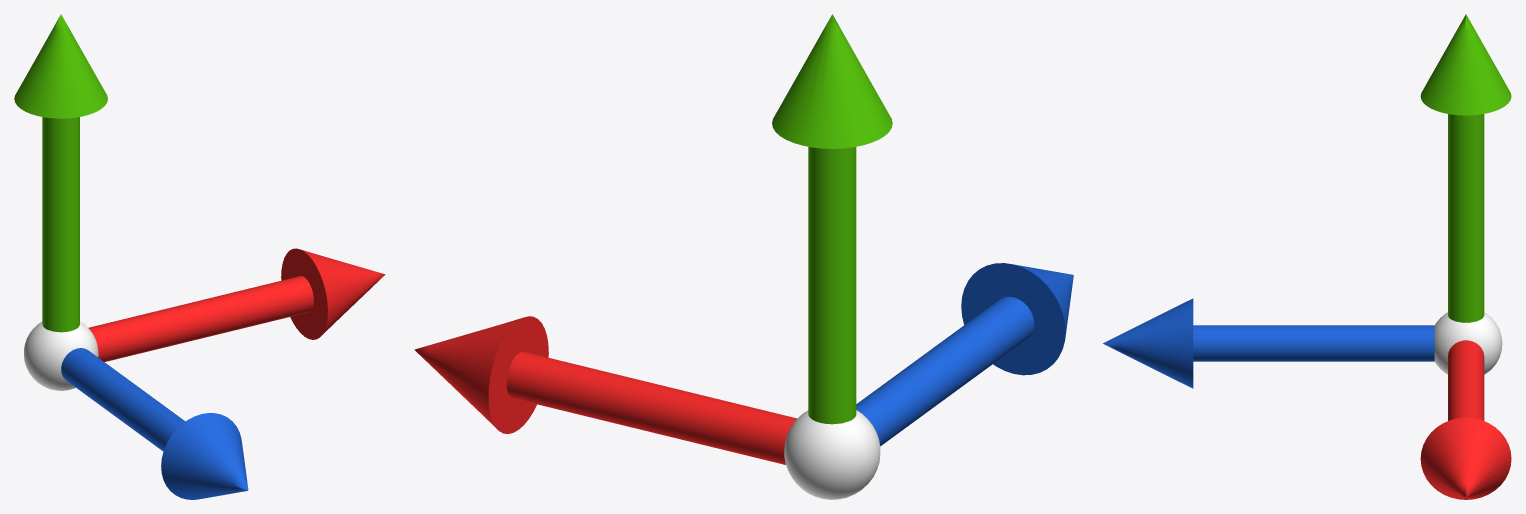
Rendered from axis_gizmo.obj.
3 views of the same model, side by side, from view 1: azimuth 30°, elevation 25°; view 2: azimuth 150°, elevation 25°; view 3: azimuth 270°, elevation 25° (orthographic). The views are drawn at different scales.
Parts seen in each view (by area): view 1: sw2urdf_01bfdf8a-bc3a-4353-9af7-1506560cd4e8; view 2: sw2urdf_01bfdf8a-bc3a-4353-9af7-1506560cd4e8; view 3: sw2urdf_01bfdf8a-bc3a-4353-9af7-1506560cd4e8.
Boxes of the visible parts, box(x1,y1,x2,y2) form: sw2urdf_01bfdf8a-bc3a-4353-9af7-1506560cd4e8: box(14, 14, 385, 499); sw2urdf_01bfdf8a-bc3a-4353-9af7-1506560cd4e8: box(414, 14, 1073, 499); sw2urdf_01bfdf8a-bc3a-4353-9af7-1506560cd4e8: box(1103, 14, 1511, 499).
Bounding box in the file's own units: 0.1125 × 0.1125 × 0.1125.
